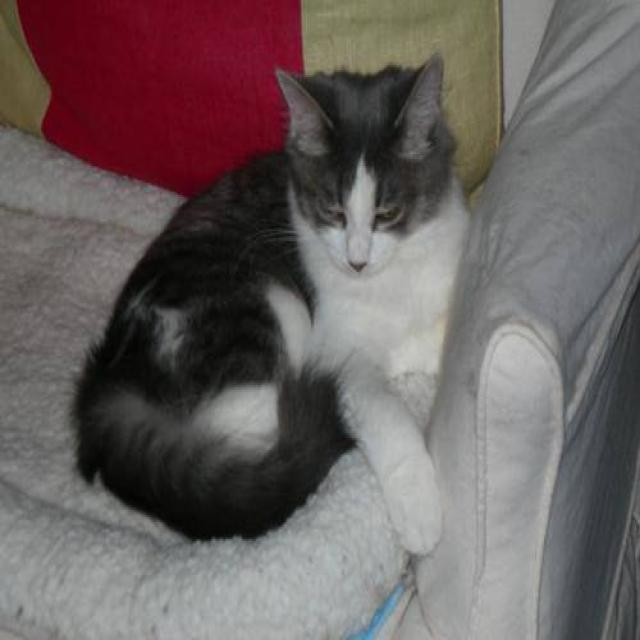cat: (69, 52, 472, 554)
